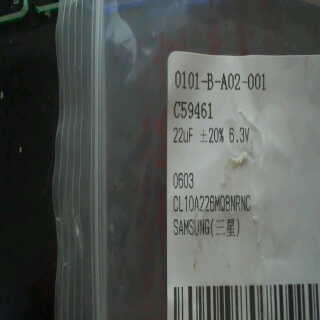22uF: (169, 125, 194, 146)
